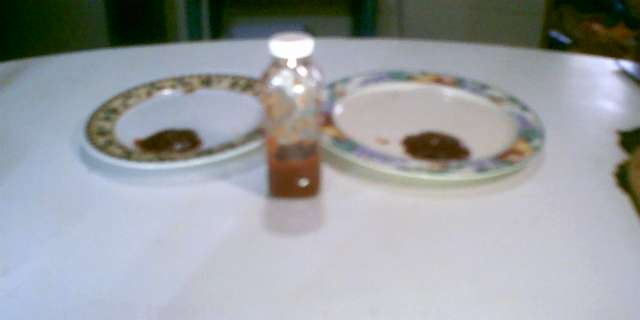ketchup_bottle: (248, 25, 332, 203)
ketchup_portion: (399, 126, 476, 164), (131, 123, 205, 158)
